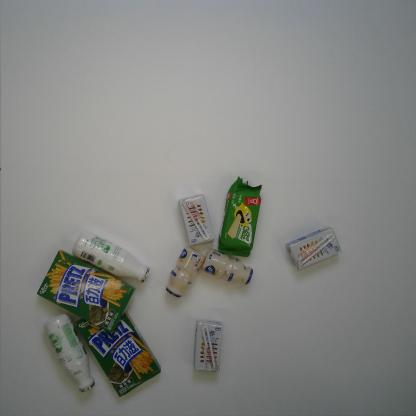Dessert: (36, 249, 137, 334), (75, 310, 161, 398), (217, 175, 264, 258)
Milk: (42, 312, 96, 393), (72, 230, 150, 284), (285, 226, 342, 270), (165, 246, 207, 298), (201, 248, 254, 285), (179, 194, 215, 246), (193, 319, 223, 373)
